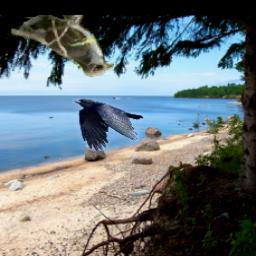Crow: (74, 99, 144, 152)
Cuckoo: (11, 16, 114, 78)
